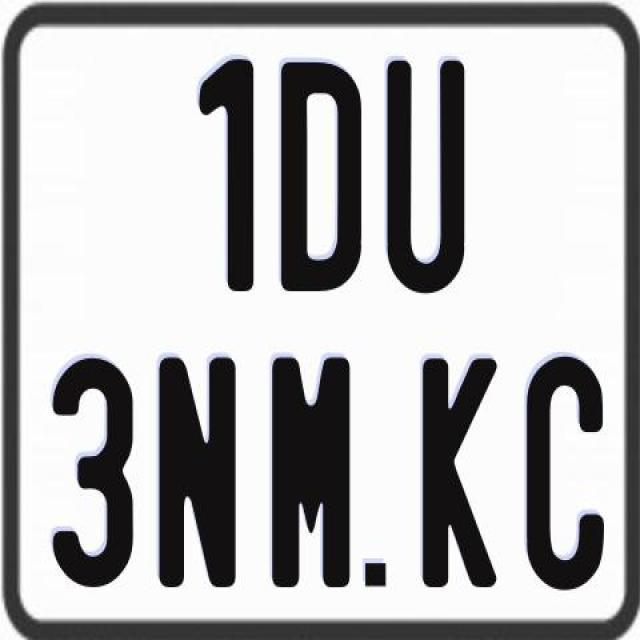1: (195, 56, 258, 288)
3: (52, 357, 136, 589)
C: (524, 352, 606, 586)
D: (278, 61, 364, 296)
K: (418, 357, 496, 596)
M: (270, 357, 354, 587)
N: (158, 357, 242, 590)
U: (385, 60, 467, 302)
